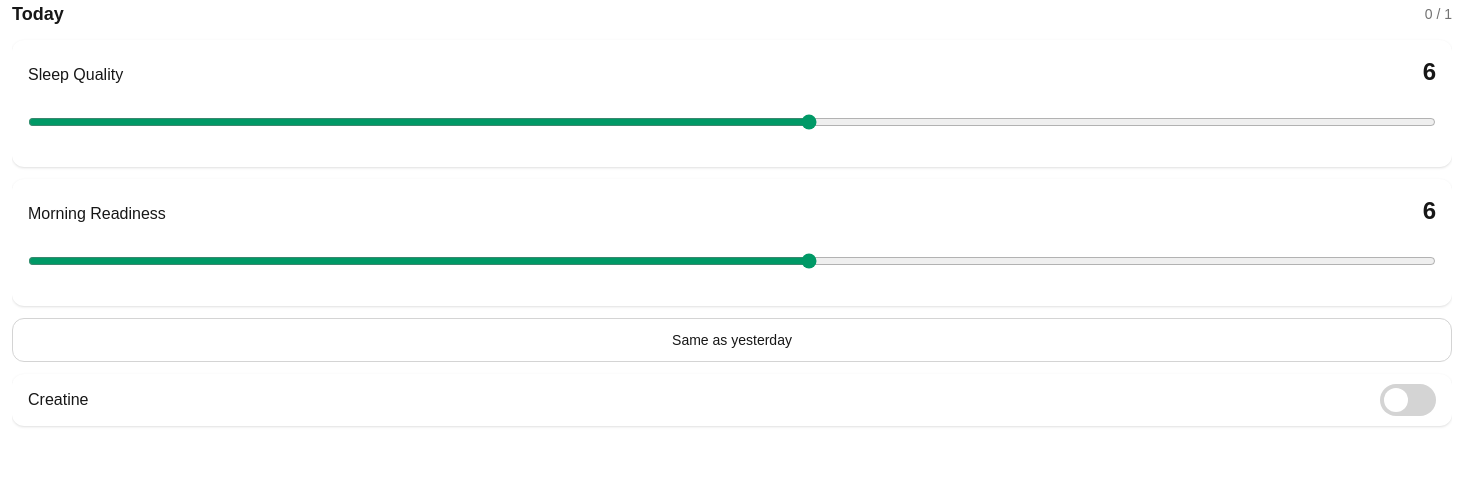
Test case: MorningCard › says so when a tap was dropped because the day rolled over
Click the switch named "creatine" at (1408, 400), box [1380,384,1436,416]
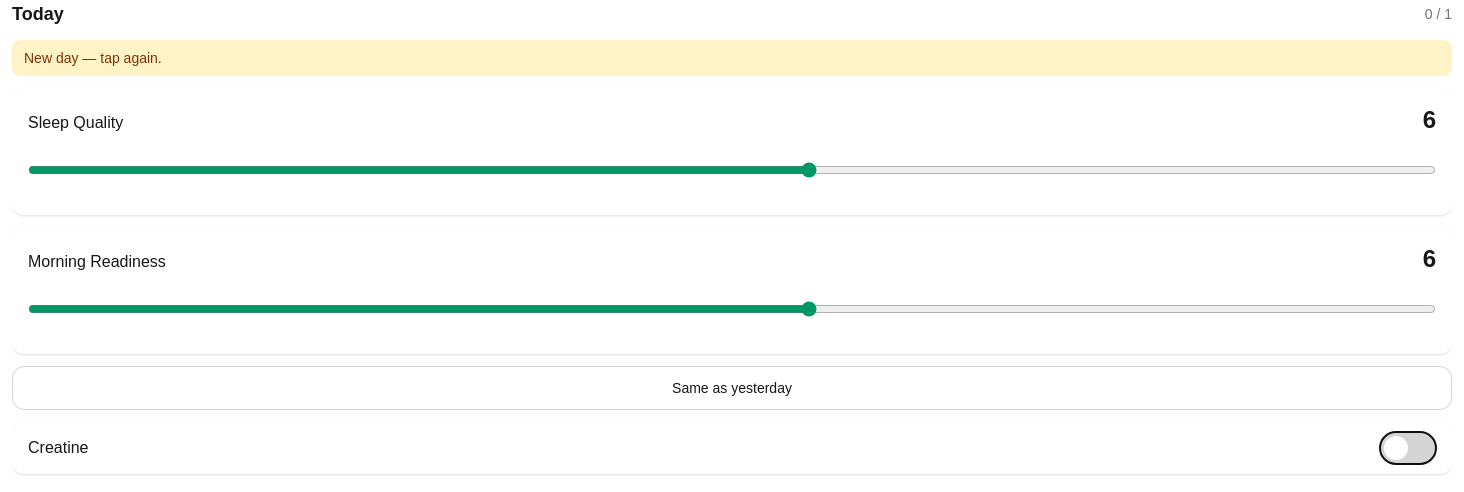
Now the text "New day — tap again." is shown, box [12,40,1452,76]
